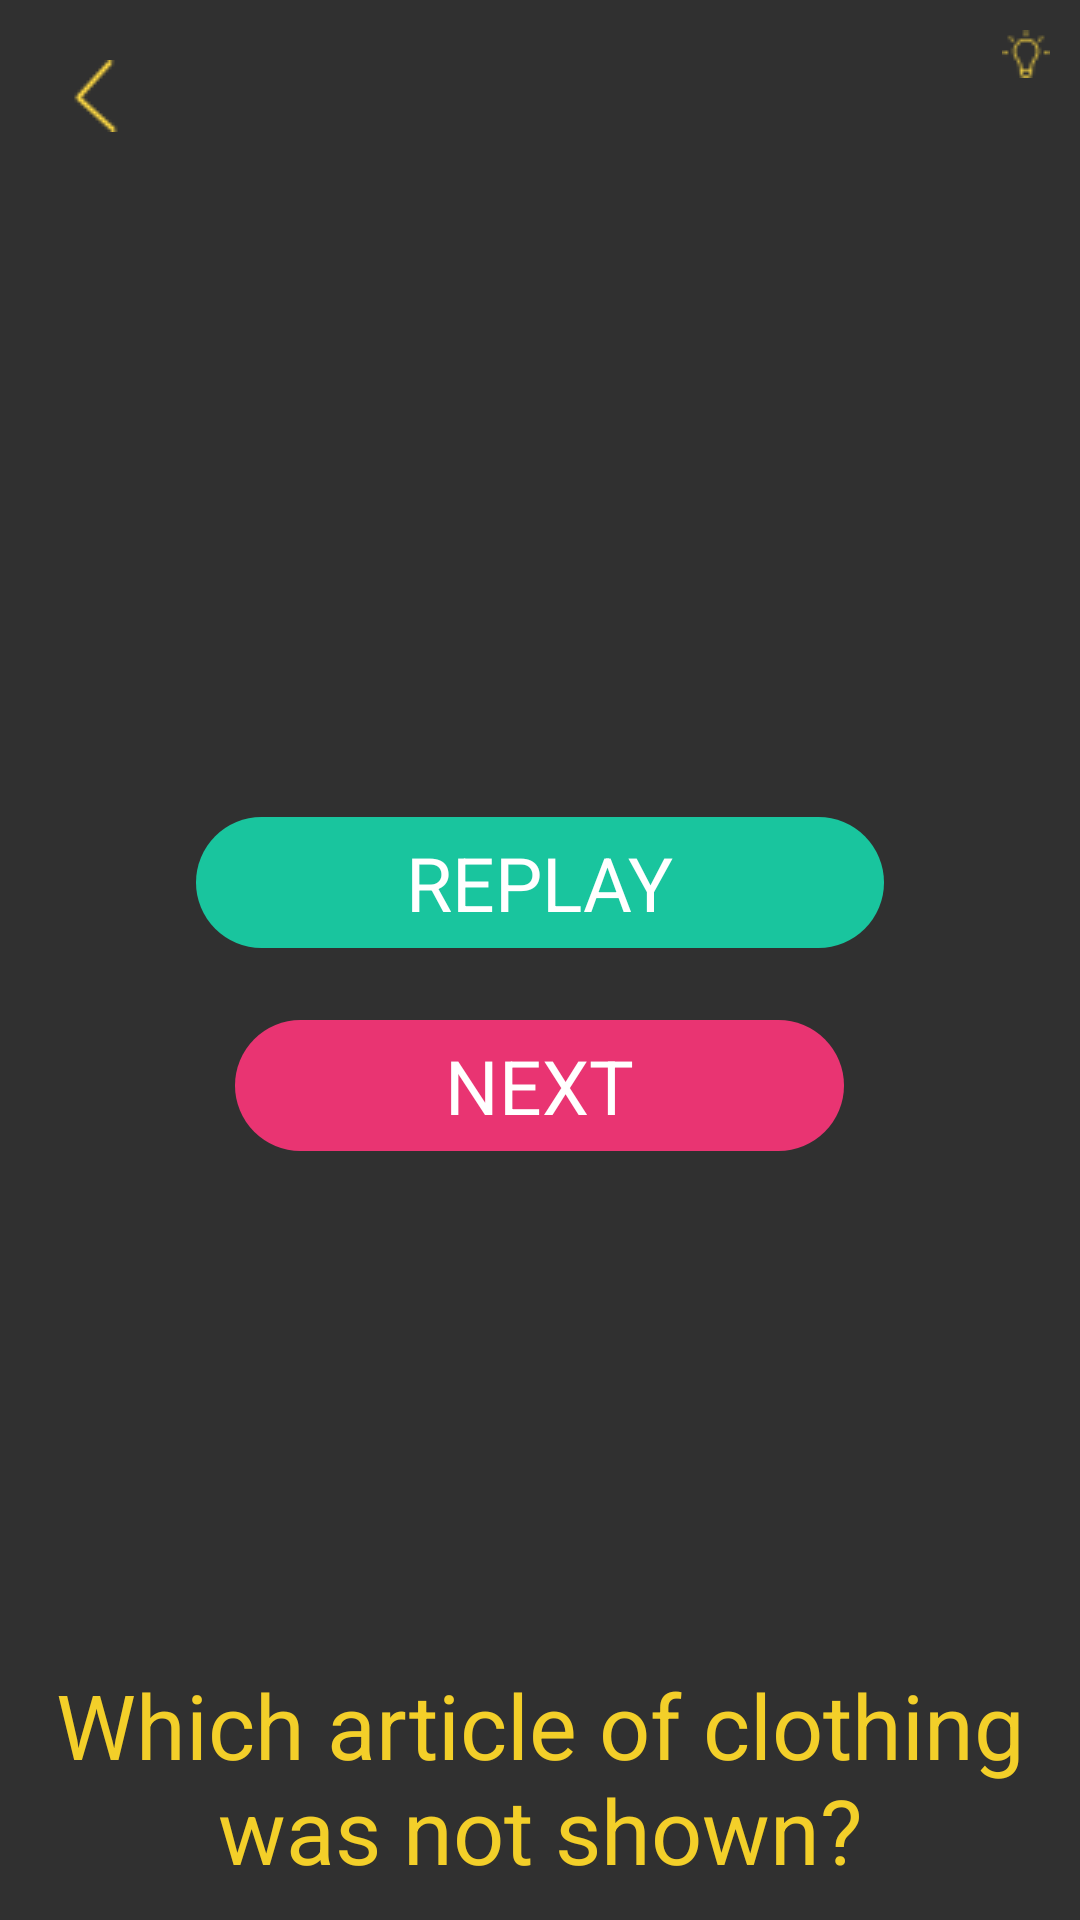

Icons on this 1080w x 1920h Android screen, each with its box as (x1, y1, x2, y2):
arrow: (74, 60, 117, 132)
lightbulb: (1002, 30, 1050, 78)
